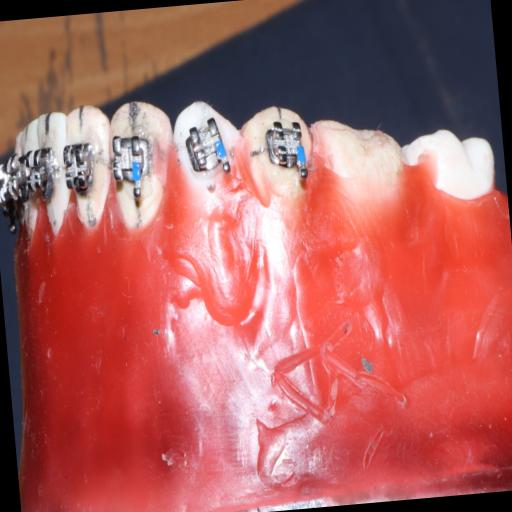correct_brace: (171, 90, 248, 206)
incorrect_brace: (184, 114, 234, 169)
